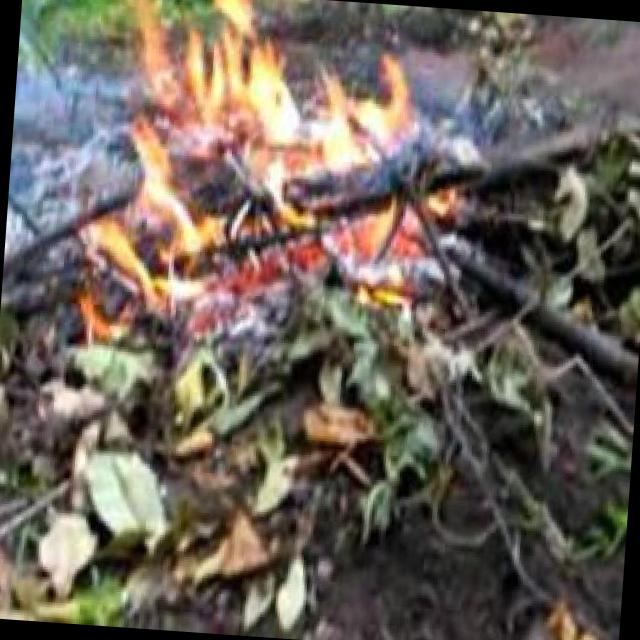Fire: (90, 0, 453, 320)
